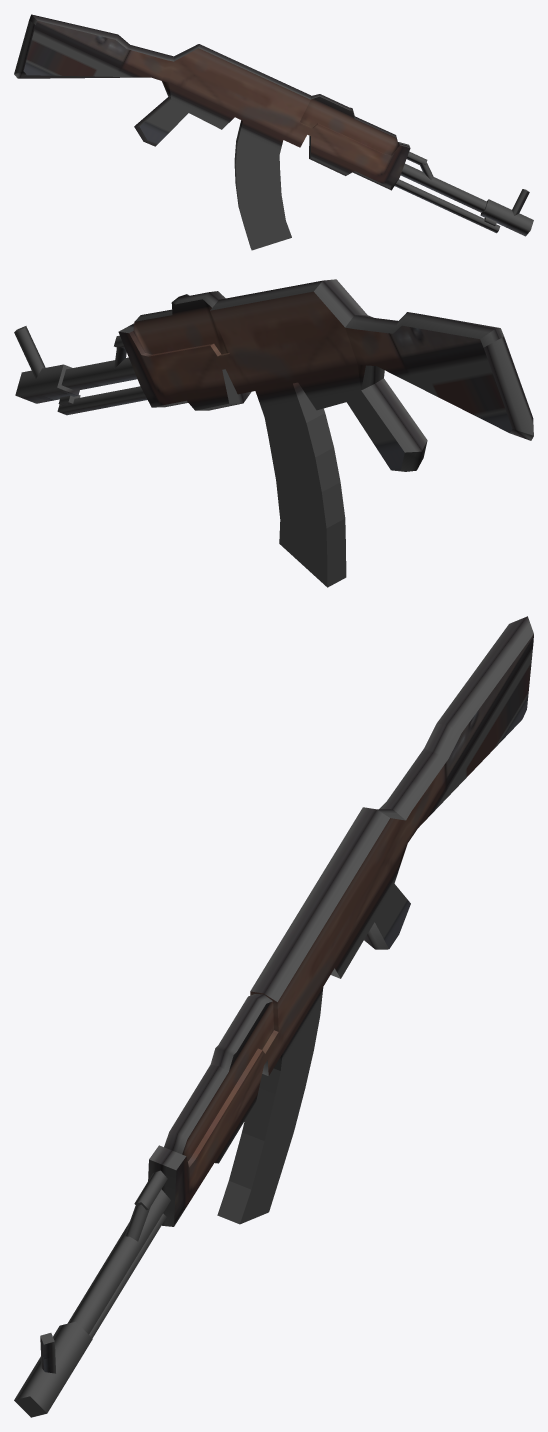
3 renders of one model, top to bottom at view 1: azimuth 30°, elevation 25°; view 2: azimuth 150°, elevation 25°; view 3: azimuth 270°, elevation 25°, orthographic. The views are drawn at different scales.
Visible parts, largest first — view 1: bz_wp_AK_47; view 2: bz_wp_AK_47; view 3: bz_wp_AK_47.
Part boxes in pixels (left/top/right/bottom): bz_wp_AK_47: left=14, top=14, right=533, bottom=250; bz_wp_AK_47: left=14, top=279, right=533, bottom=587; bz_wp_AK_47: left=14, top=616, right=533, bottom=1417.
Size of the model in its own units: 0.8259 by 0.4442 by 0.4695.
